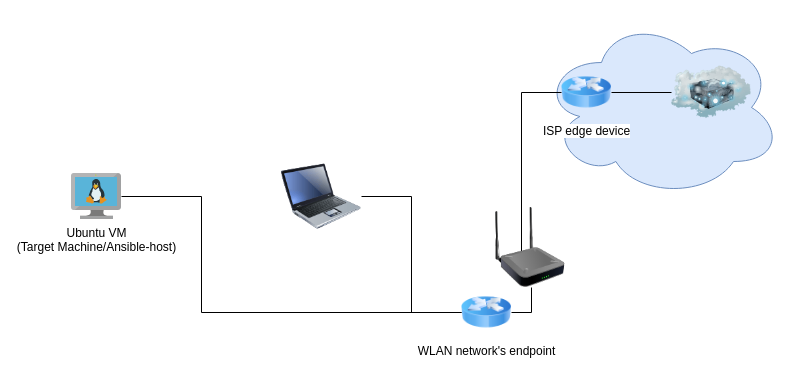
The diagram is 799 pixels wide and 376 high, and some of its shapes have lost their labels. Each missing label, with the centre of its shape:
Control PC: [321,196]
GIT Repository: [711,92]
